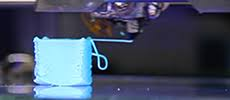fail: (86, 33, 137, 72), (20, 31, 53, 87)
